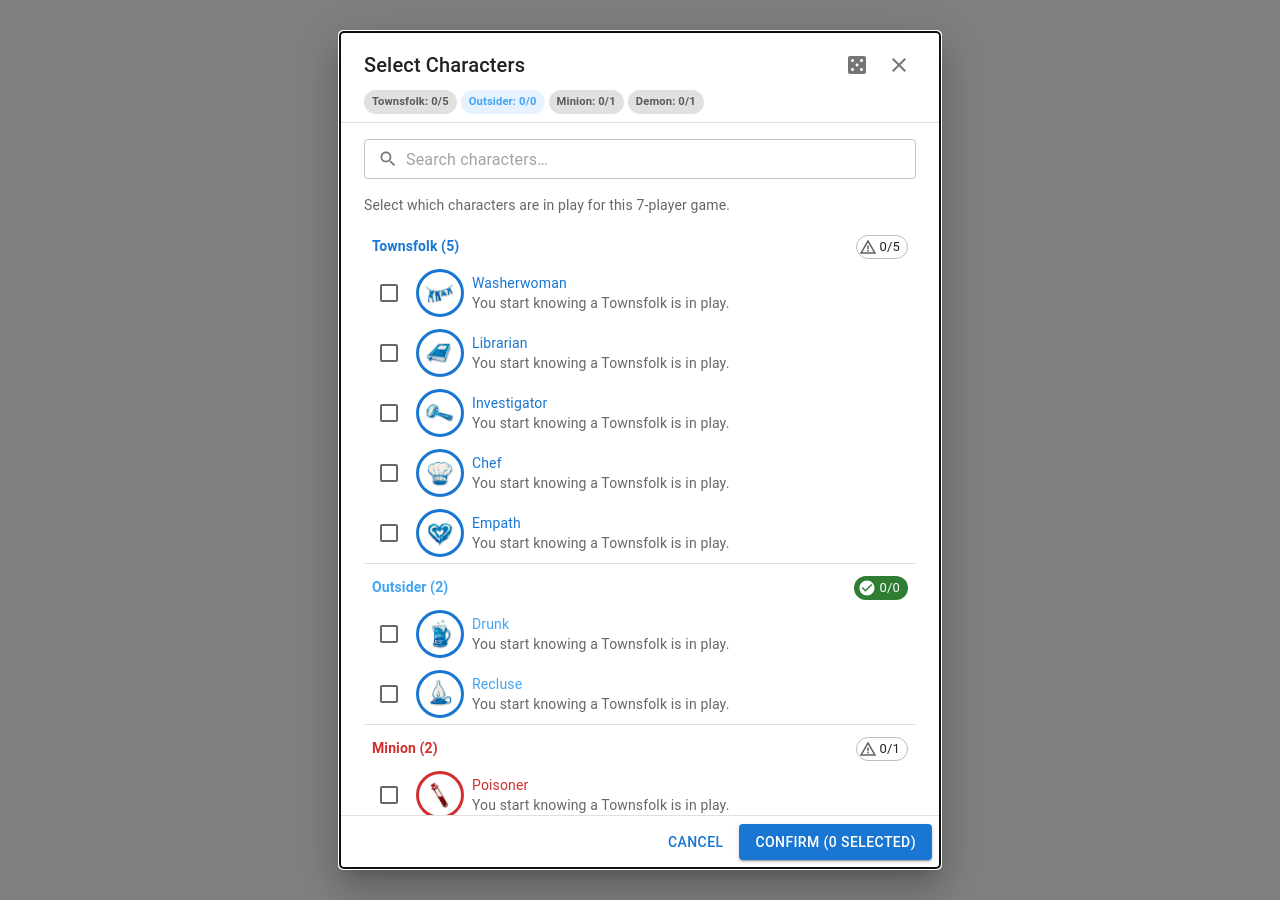
Scenario: CharacterSelection › shows confirm button with selected count
Check: the button with test id "confirm-selection" reads "Confirm (0 selected)", box x1=740 y1=824 x2=932 y2=860
Click the button with test id "char-toggle-washerwoman" at x=553, y=293, box x1=377 y1=269 x2=730 y2=317
(page scrolled)
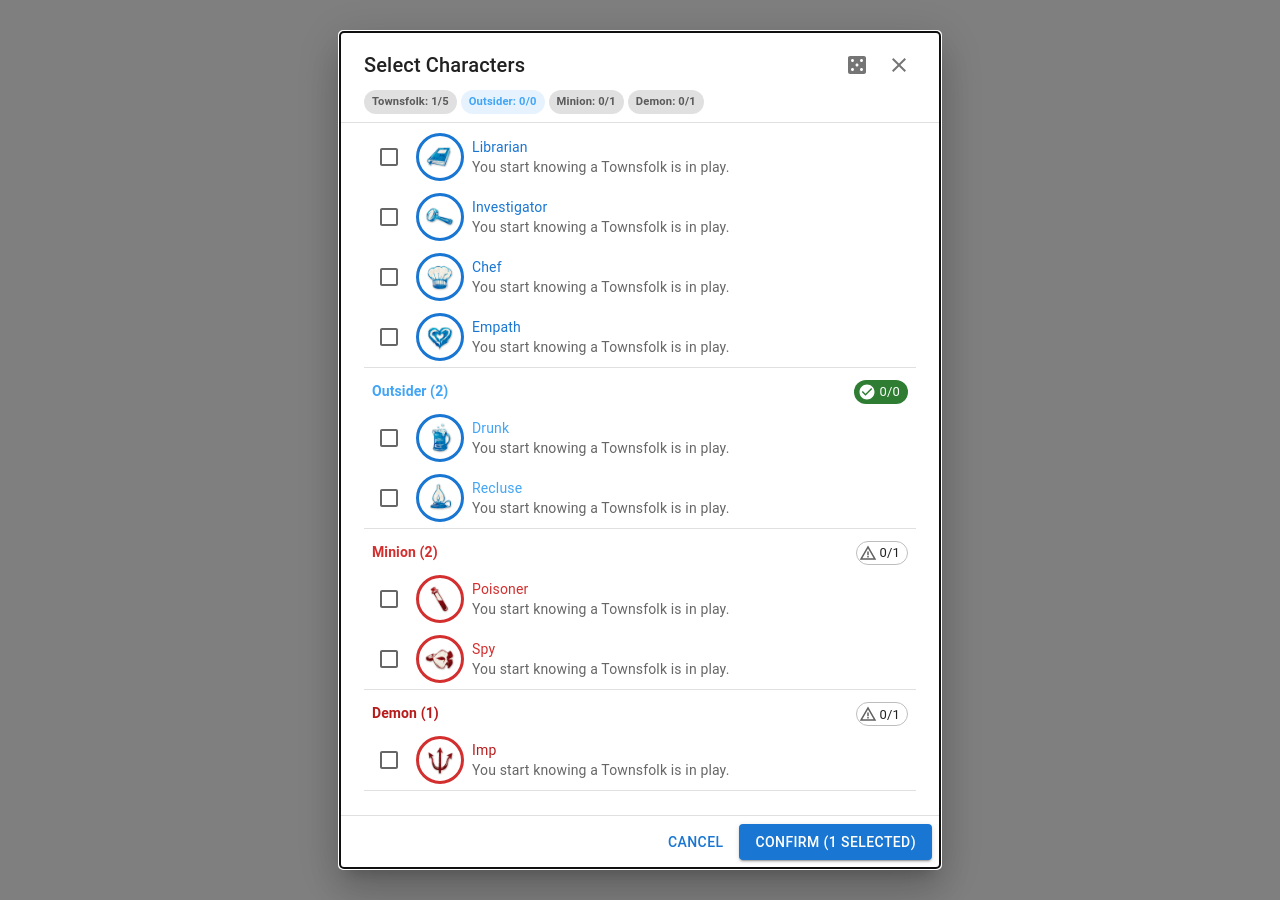
Click the button with test id "char-toggle-imp" at x=553, y=760, box x1=377 y1=736 x2=730 y2=784
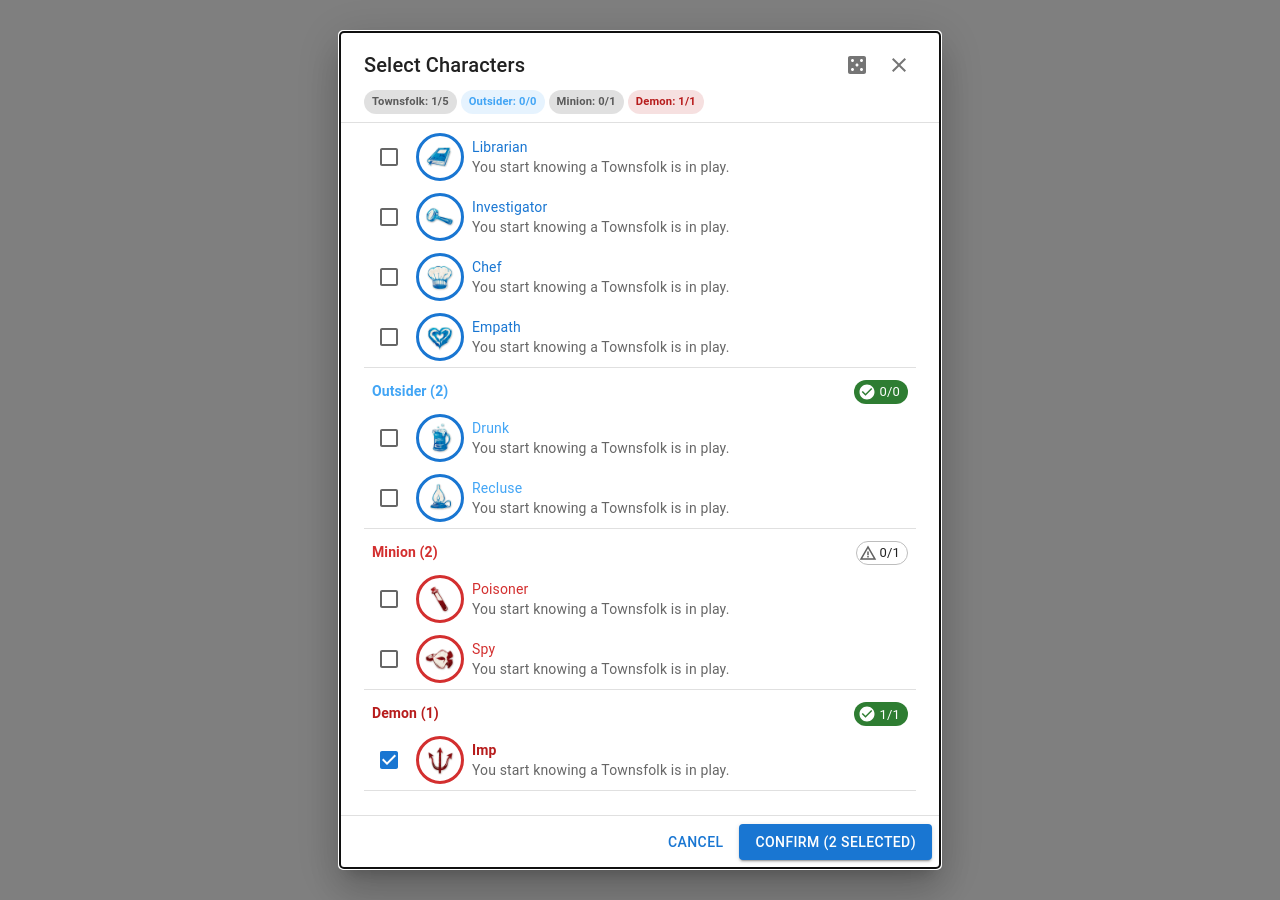
Check: the button with test id "confirm-selection" reads "Confirm (2 selected)", box x1=740 y1=824 x2=932 y2=860
